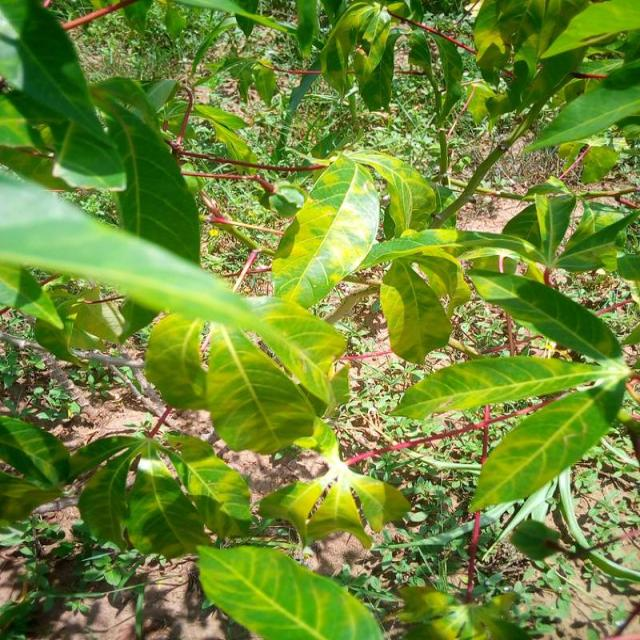cassava leaf: (0, 163, 349, 413), (468, 357, 628, 513), (195, 542, 384, 639), (270, 154, 379, 309), (205, 321, 317, 454)
